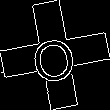O_N: (29, 26, 81, 84)
